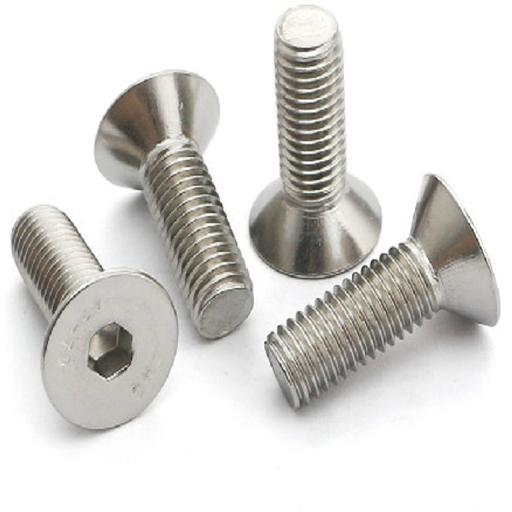Hex-Allen: (40, 265, 178, 440)
